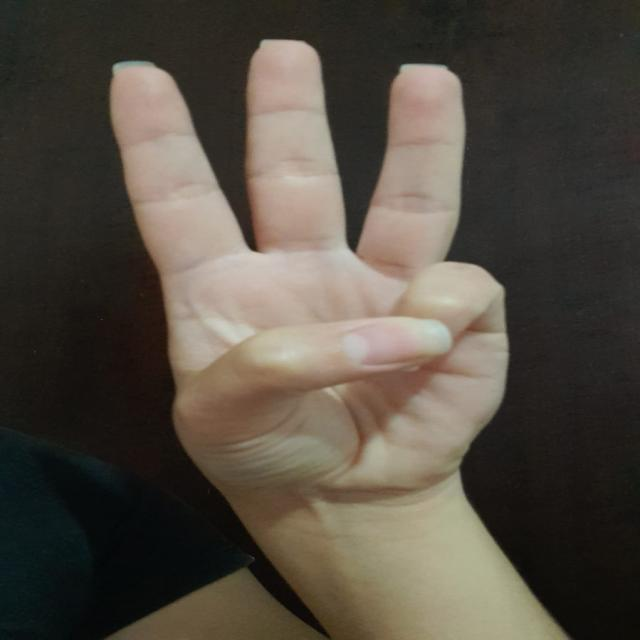W: (82, 34, 544, 496)
